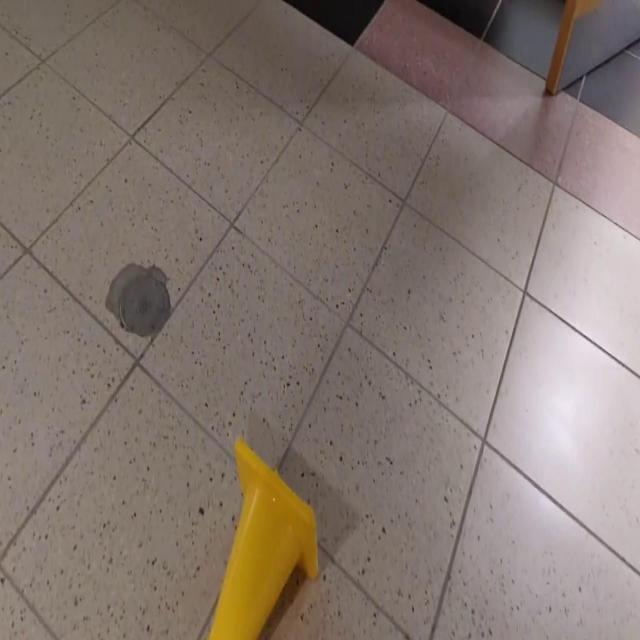frc_cone: (206, 434, 319, 640)
